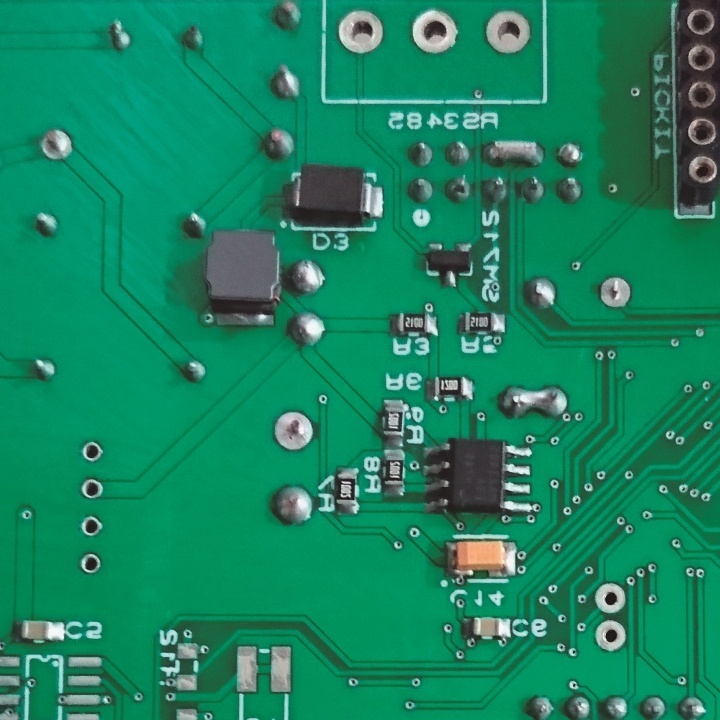F: (408, 10, 463, 56), (332, 9, 385, 55), (482, 10, 532, 55), (270, 408, 316, 452), (596, 272, 633, 315), (593, 617, 630, 655), (593, 579, 629, 616), (38, 128, 76, 163), (77, 549, 104, 579), (79, 476, 104, 504), (80, 515, 104, 540), (81, 438, 104, 463)
P: (498, 384, 573, 421), (481, 137, 547, 169)
